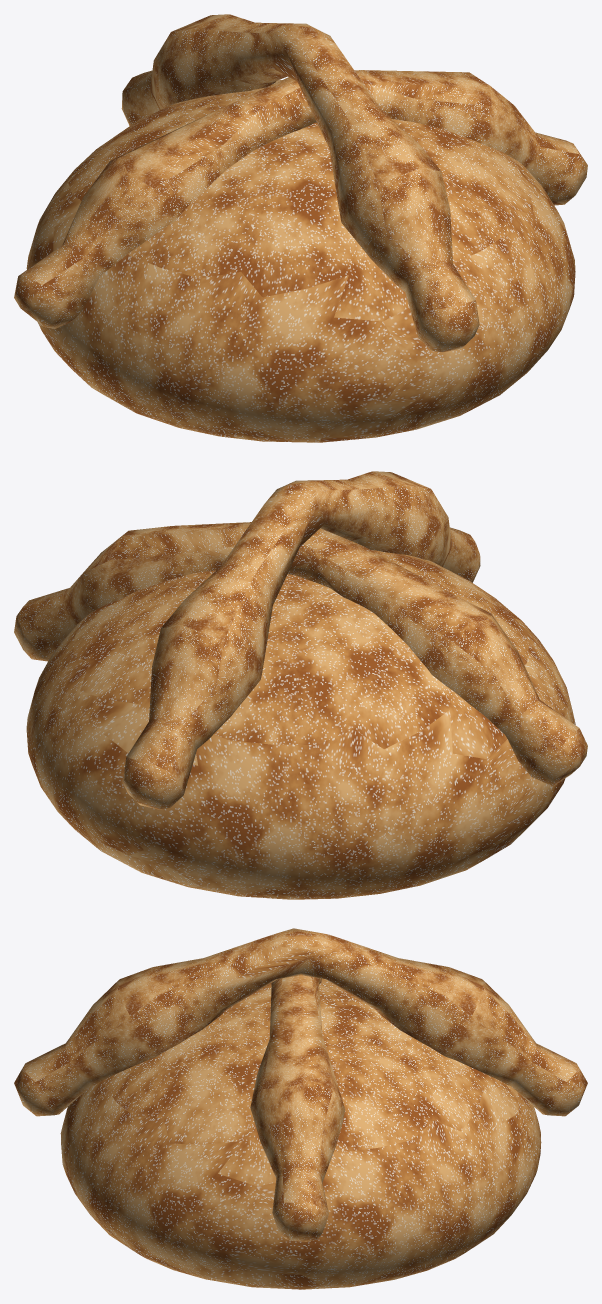
File: pan_de_muerto_lod.obj
The picture shows the model from 3 angles, top to bottom: view 1: azimuth 30°, elevation 25°; view 2: azimuth 150°, elevation 25°; view 3: azimuth 270°, elevation 25°; orthographic projection. The views are drawn at different scales.
Visible parts, largest first — view 1: Cuerpo, Hueso01, Hueso02; view 2: Cuerpo, Hueso01, Hueso02; view 3: Cuerpo, Hueso01, Hueso02.
Boxes of the visible parts, x1,y1,x2,y2 form: Cuerpo: (26, 80, 575, 442); Hueso01: (121, 14, 479, 352); Hueso02: (14, 70, 587, 328); Cuerpo: (26, 550, 575, 899); Hueso01: (122, 471, 480, 809); Hueso02: (14, 522, 587, 785); Cuerpo: (60, 979, 541, 1289); Hueso01: (14, 928, 587, 1116); Hueso02: (250, 975, 345, 1241).
Bounding box in the file's own units: 0.2048 × 0.111 × 0.2064.
2 materials, 2 textured.
